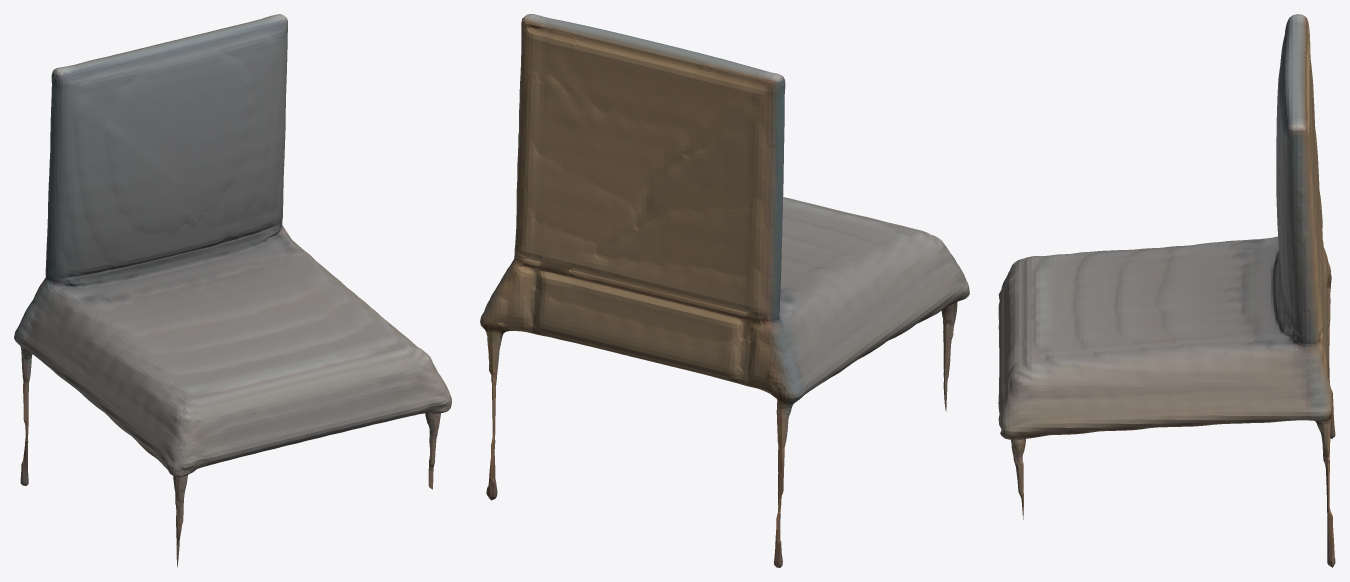
The picture shows the model from 3 angles, left to right: view 1: azimuth 30°, elevation 25°; view 2: azimuth 150°, elevation 25°; view 3: azimuth 270°, elevation 25°; orthographic projection. The views are drawn at different scales.
Parts seen in each view (by area): view 1: geometry_0; view 2: geometry_0; view 3: geometry_0.
Part boxes in pixels (x1=…): geometry_0: x1=14, y1=14, x2=451, y2=566; geometry_0: x1=480, y1=14, x2=969, y2=567; geometry_0: x1=998, y1=14, x2=1335, y2=567.
Bounding box in the file's own units: 0.6997 × 1 × 0.7022.
